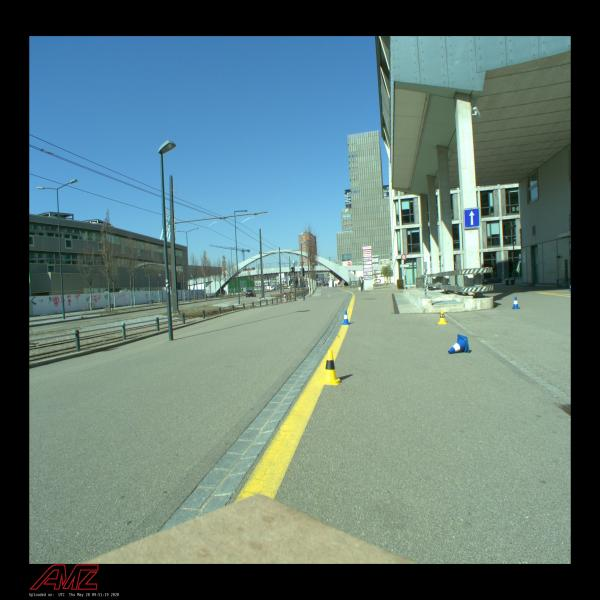blue_cone: (448, 334, 470, 354), (341, 311, 351, 325), (512, 297, 520, 309)
yellow_cone: (320, 350, 342, 386), (438, 309, 447, 324)
